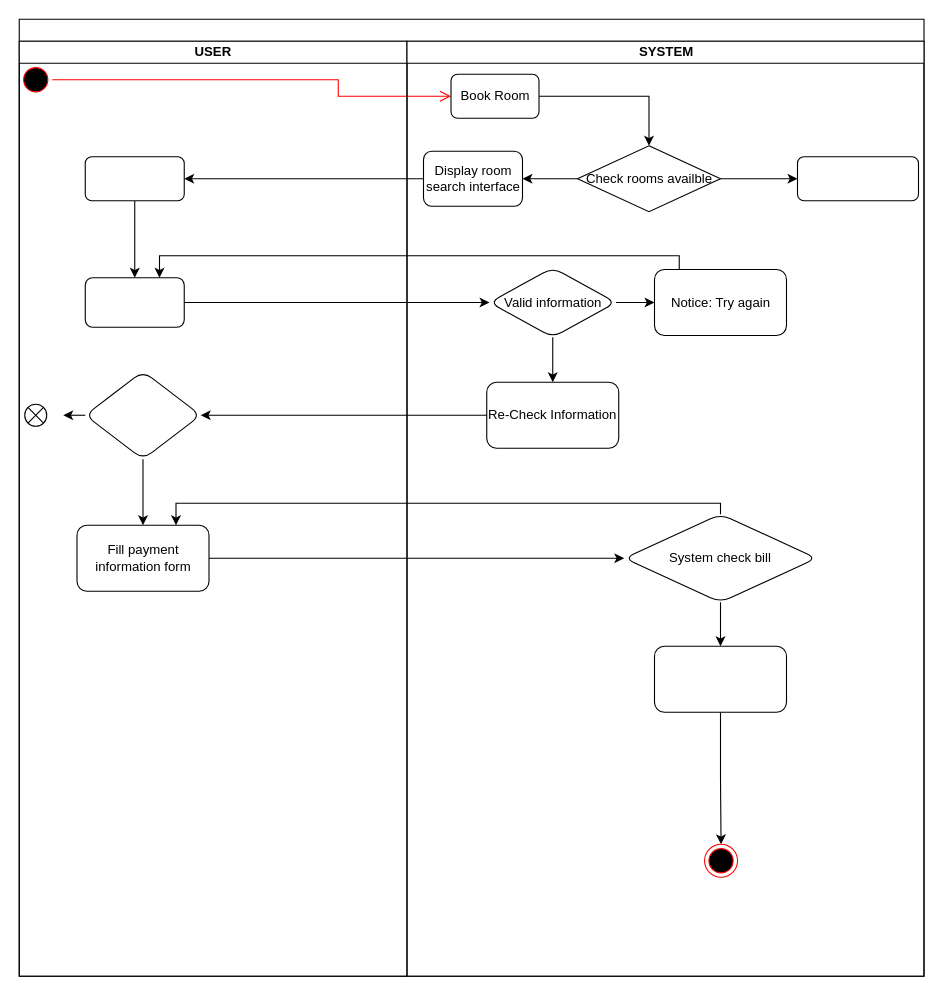
Some shapes in this 944 by 996 pixel diagram are drawn without their labels. Here are the shapes that lost their labels. From the top down, the centre of each, then its label:
[134,178]: Choose Room
[857,178]: Notice: No rooms are available.
[134,302]: Fill information in room book form
[142,414]: Confirm
[720,678]: Look room and save to database
